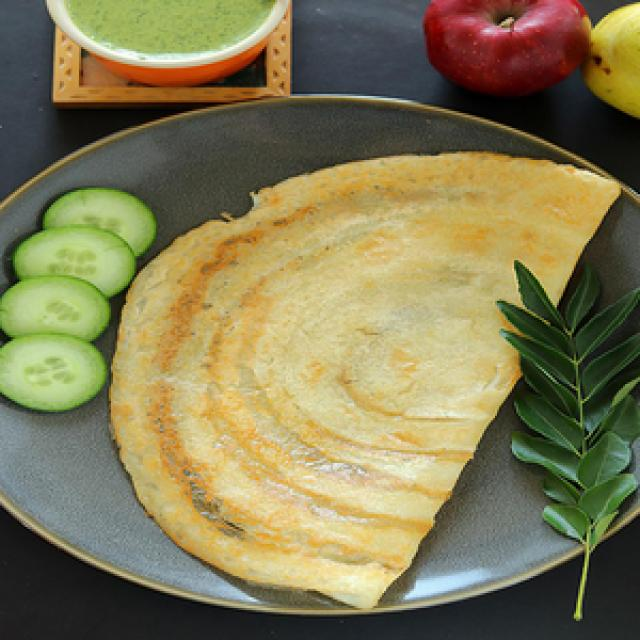dosa: (101, 134, 626, 616)
